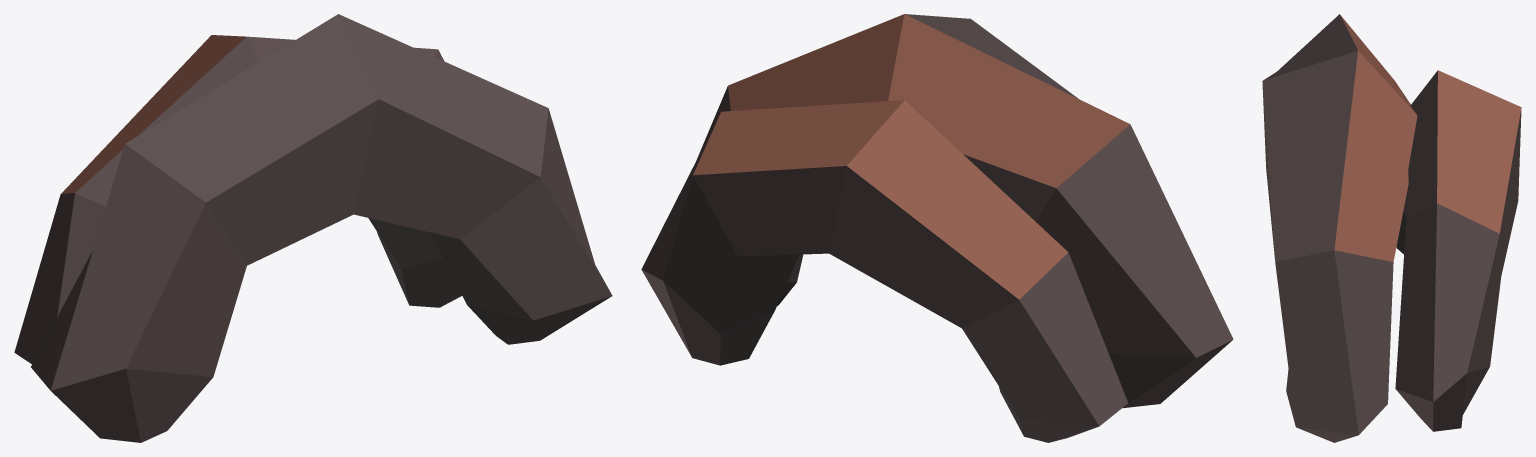
File: TB_D_Env_BoneH_C.FBX
3 views of the same model, side by side, from view 1: azimuth 30°, elevation 25°; view 2: azimuth 150°, elevation 25°; view 3: azimuth 270°, elevation 25° (orthographic). The views are drawn at different scales.
Parts seen in each view (by area): view 1: TB_D_Env_BoneH_C; view 2: TB_D_Env_BoneH_C; view 3: TB_D_Env_BoneH_C.
Boxes of the visible parts, left/top/right/bottom form: TB_D_Env_BoneH_C: left=14, top=14, right=612, bottom=442; TB_D_Env_BoneH_C: left=641, top=14, right=1233, bottom=442; TB_D_Env_BoneH_C: left=1262, top=14, right=1521, bottom=442.
Size of the model in its own units: 1.65 by 0.9755 by 0.7415.
